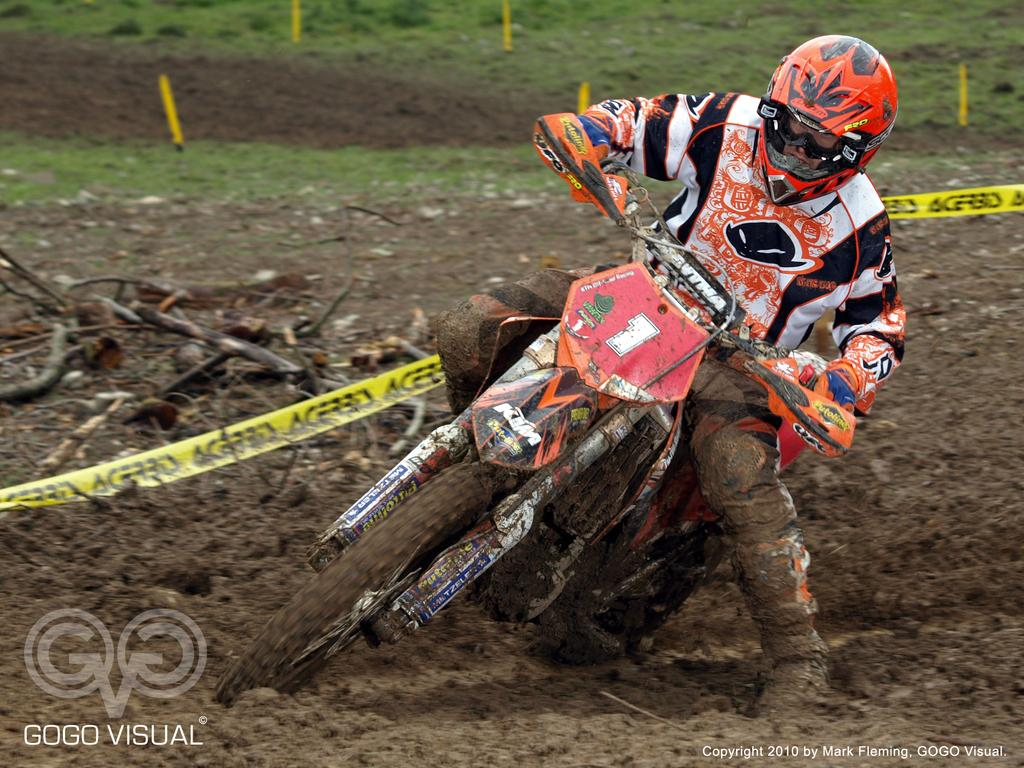helmet: (758, 34, 899, 207)
